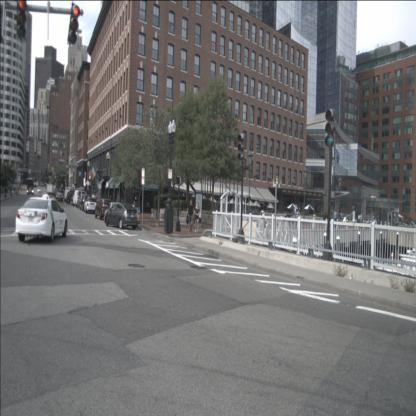human-pedestrian-adult: (186, 198, 194, 234), (194, 202, 200, 233), (293, 205, 300, 228), (134, 195, 138, 216), (334, 209, 338, 229), (97, 192, 100, 208), (360, 213, 363, 227), (364, 214, 367, 226), (367, 214, 370, 223), (373, 214, 375, 225)
vehicle-bus-rigid: (27, 178, 34, 195)
vehicle-car: (15, 198, 68, 242), (105, 203, 138, 230), (104, 203, 123, 224), (94, 198, 112, 220), (73, 190, 86, 207), (84, 198, 97, 214), (80, 194, 92, 210), (66, 192, 76, 204), (56, 192, 63, 203)
vehicle-truck: (47, 184, 56, 197)
